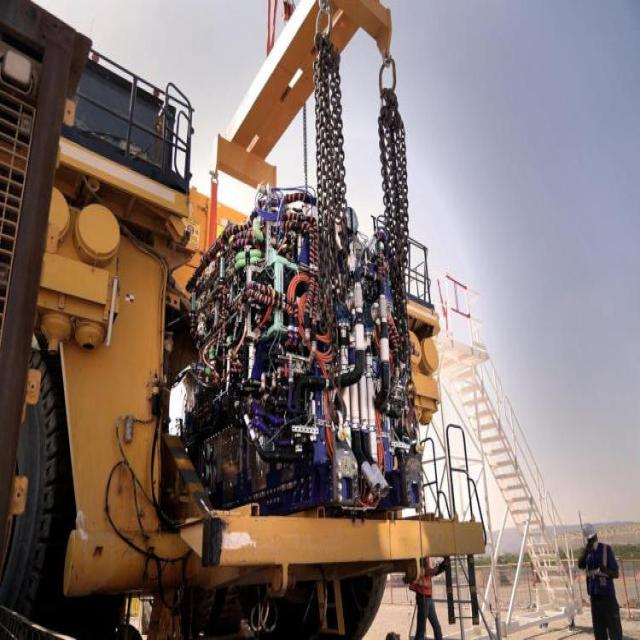dump_truck: (3, 1, 499, 597)
